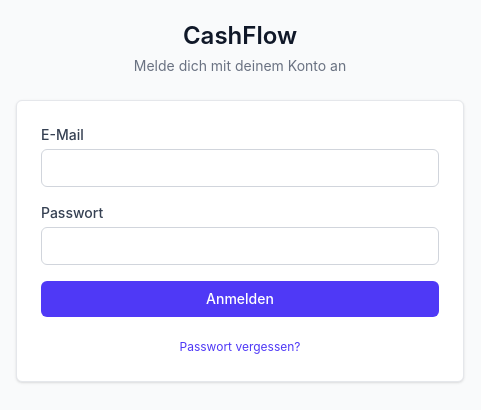
it: Login › shows validation error for invalid email
Type "not-an-email" into the field labelled "E-Mail" at (240, 168), box [41,149,439,187]
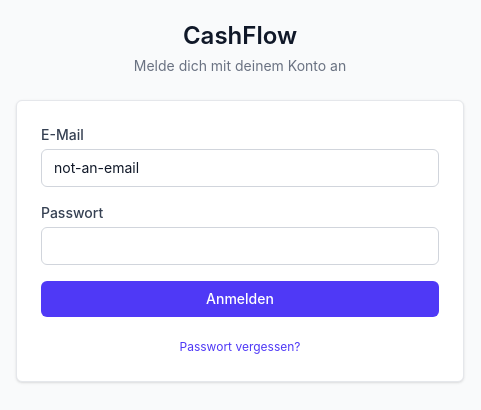
Type "pw" into the password field labelled "Passwort" at (240, 246), box [41,227,439,265]
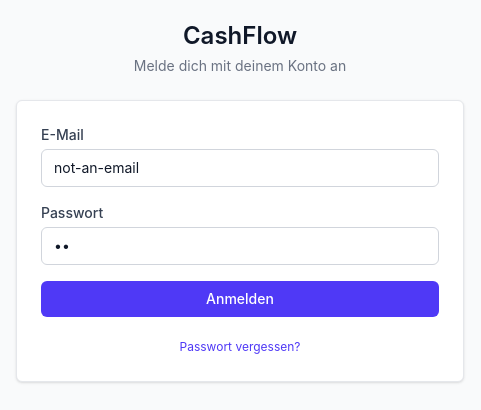
Click the button "Anmelden" at (240, 299), box [41,281,439,317]
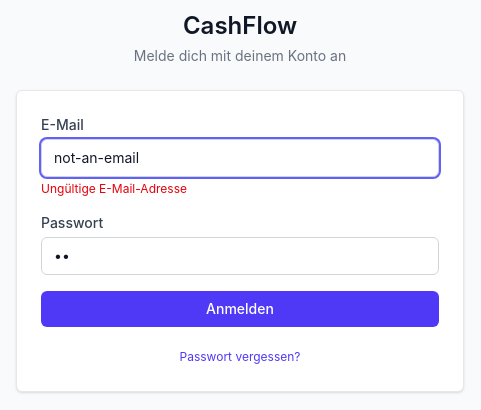
Check: the text "Ungültige E-Mail-Adresse" is shown, box [41,181,187,196]
